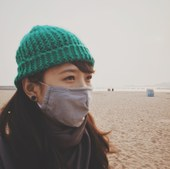face_mask: (41, 66, 93, 127)
